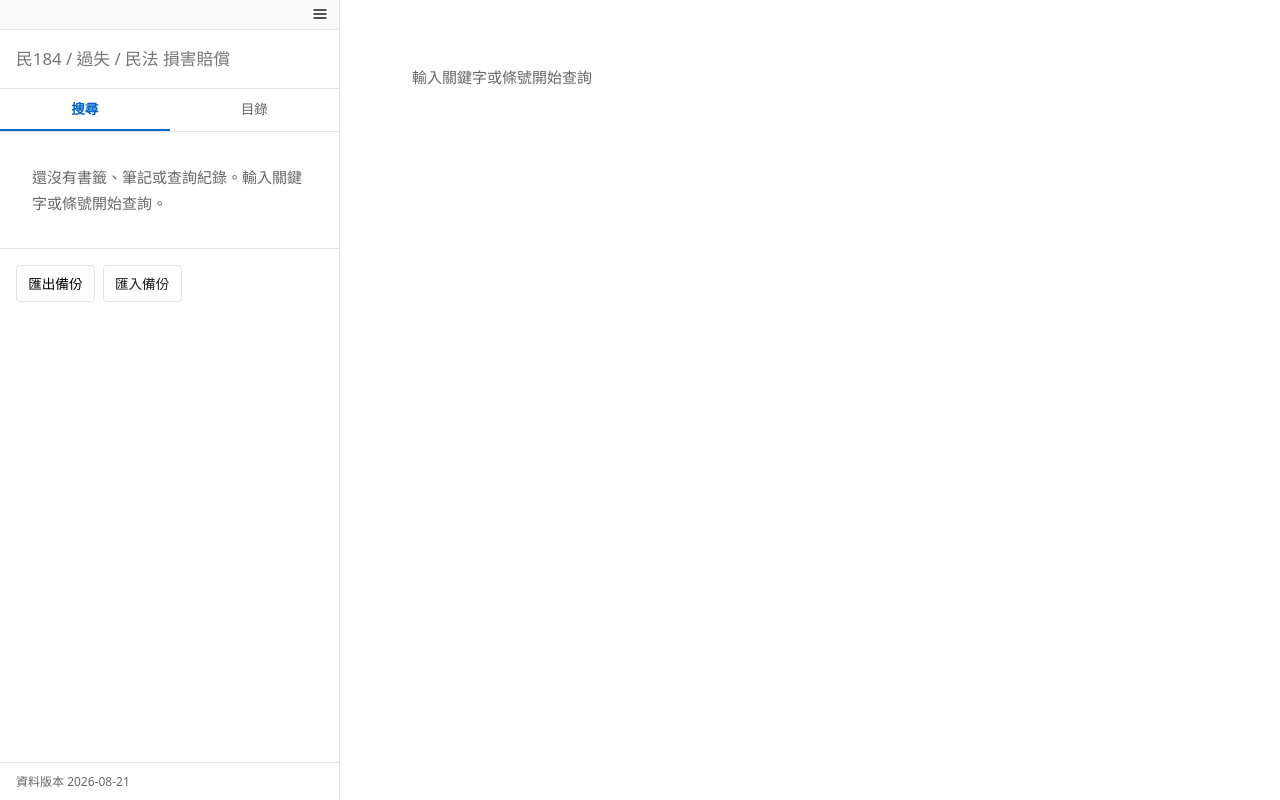
Test case: Enter 進入閱讀之後的打字去處(§7.2) › 在右欄打可列印字元時焦點回到搜尋框,輸入不會被吞掉
The width and height of the screenshot is (1280, 800).
In the field named "搜尋法條": (170, 59) [0,30,339,89], type "過失"
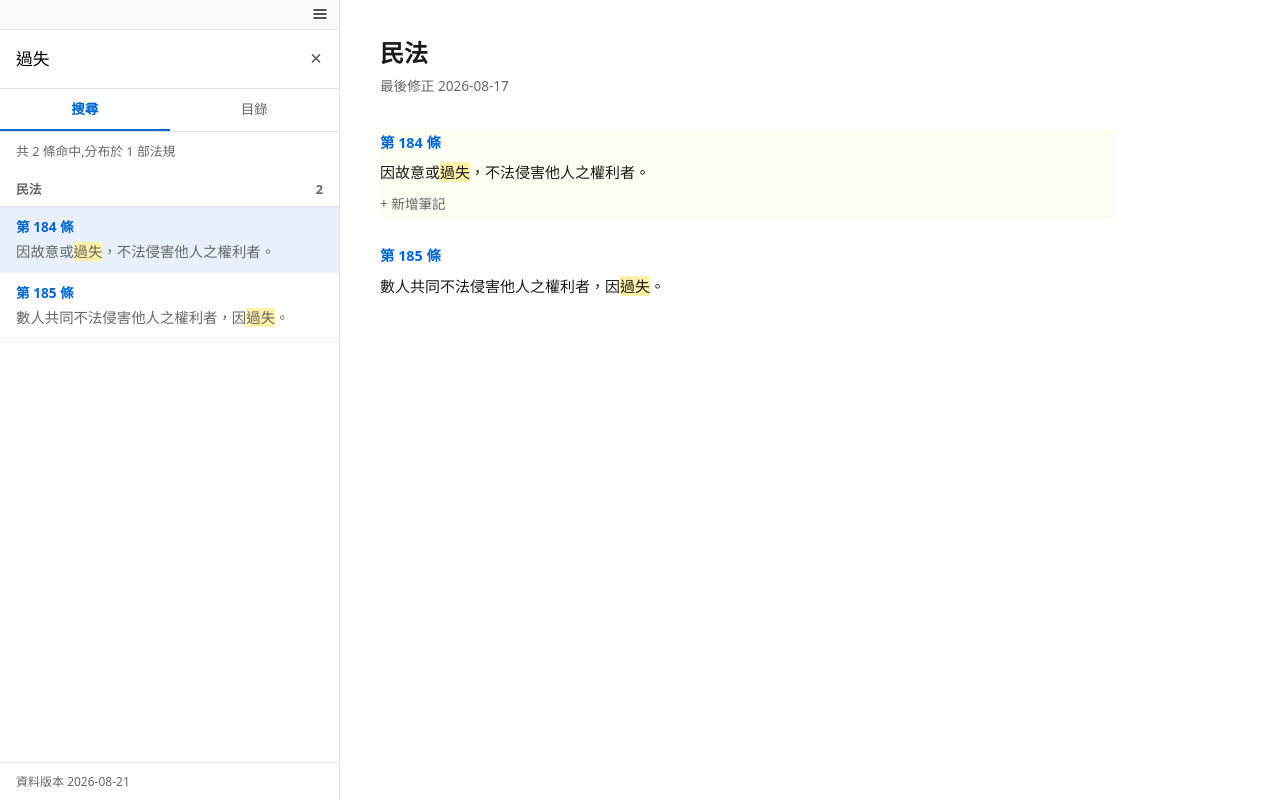
Press Enter
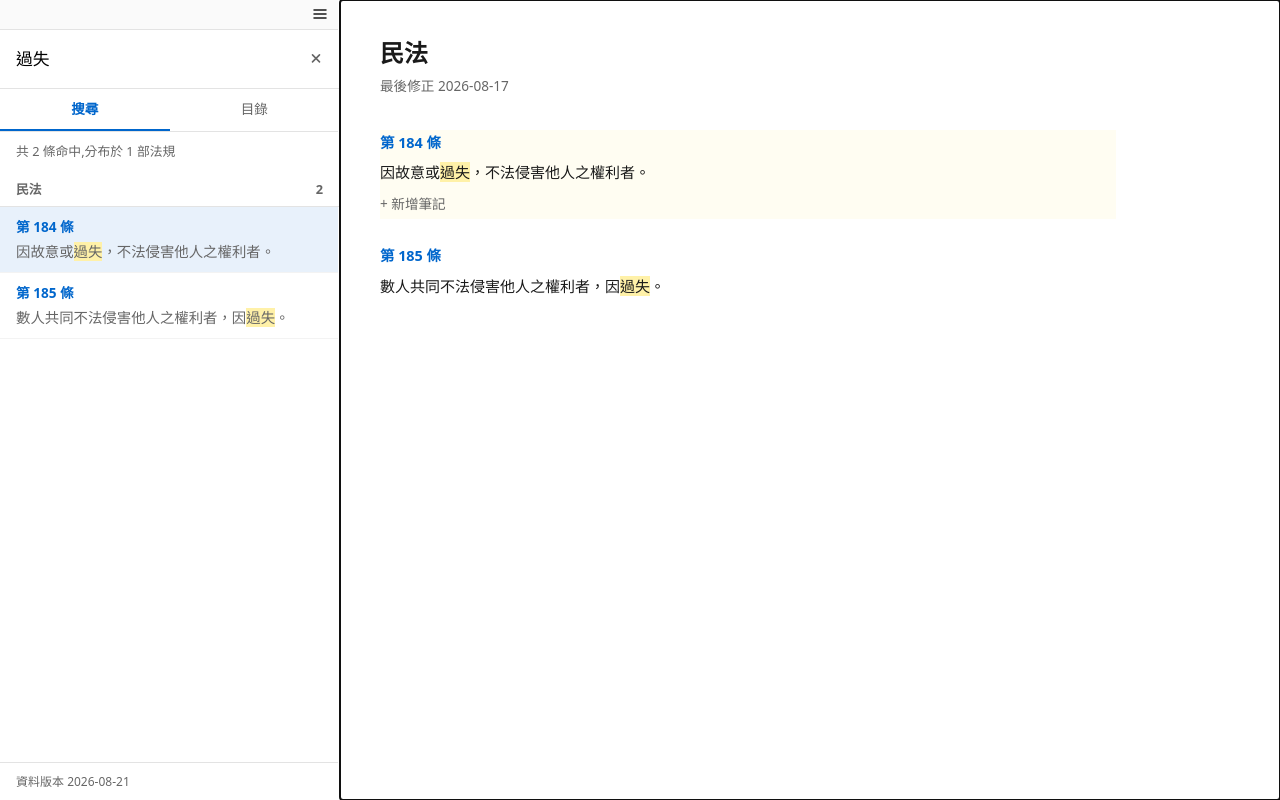
焦點在不可編輯的右欄時打字,原本會直接消失
Press 刑 in the element that starts with "最後修正", box [380,36,1116,296]
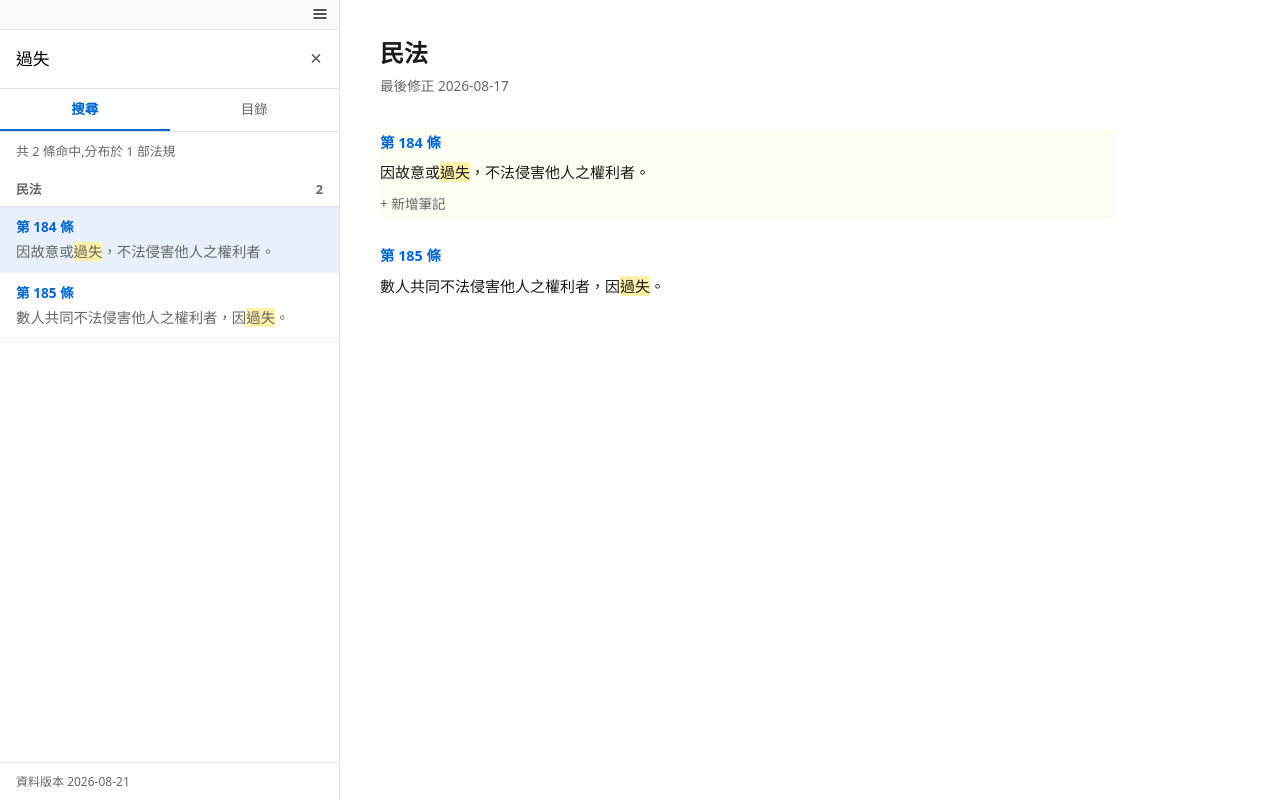
焦點回到搜尋框後,接下來的輸入照常進入查詢
In the field named "搜尋法條": (170, 59) [0,30,339,89], type "184"
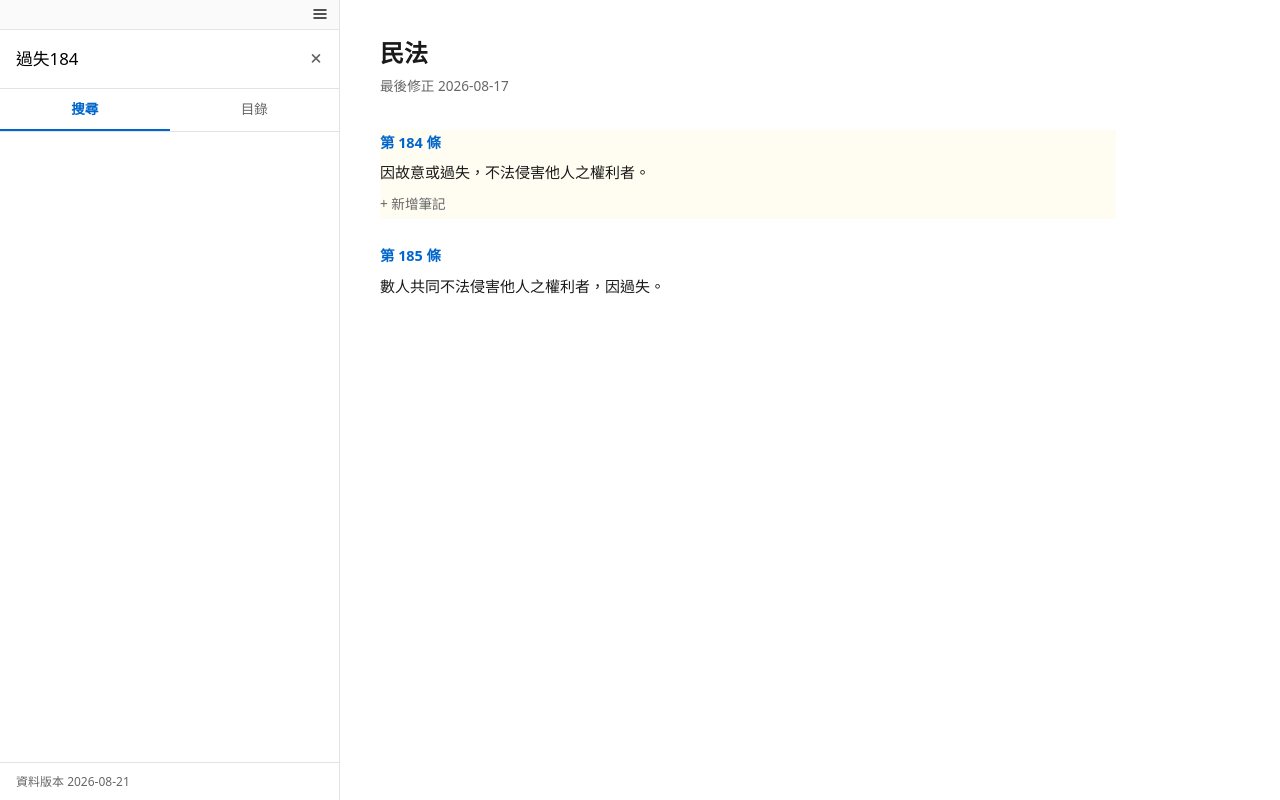
Expected: the field named "搜尋法條" holds "過失184", [0,30,339,89]
